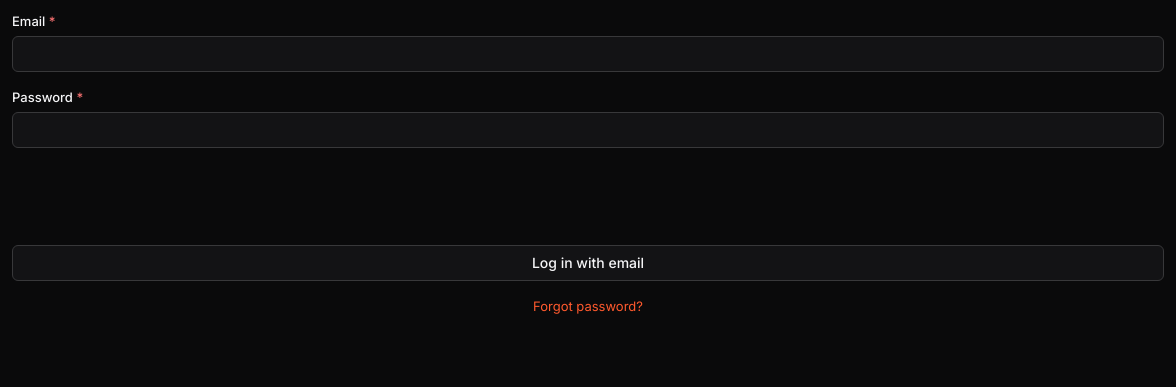
Scenario: LoginForm › shows the one generic error with the static Google hint
Type "a@b.co" into the field labelled "Email *" at (588, 54), box [12, 36, 1164, 72]
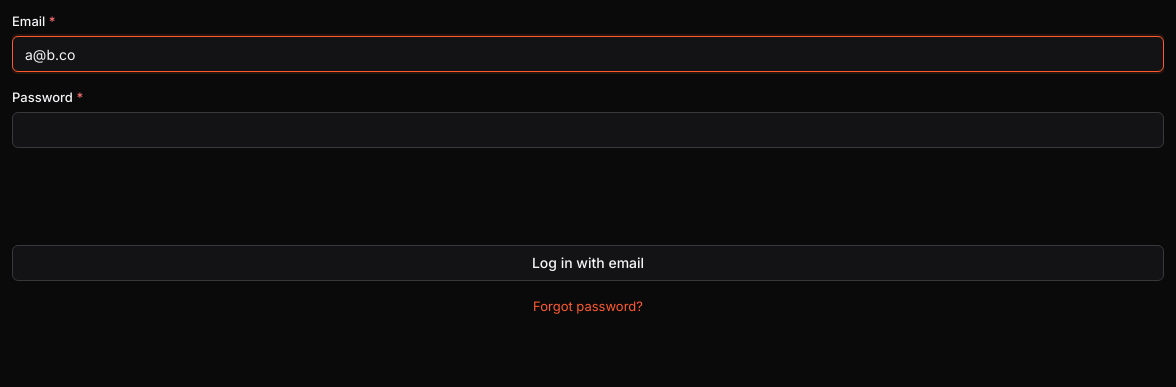
Type "wrong" into the password field labelled "Password *" at (588, 130), box [12, 112, 1164, 148]
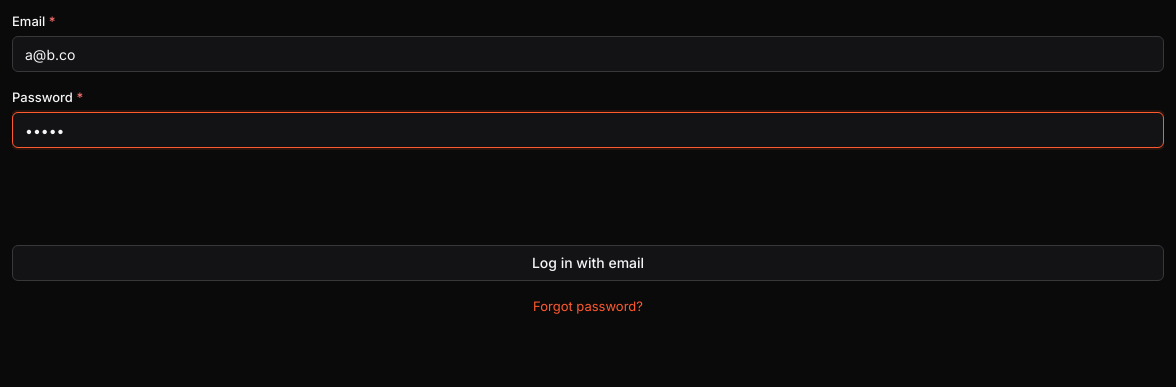
Click the button "Log in with email" at (588, 263), box [12, 245, 1164, 281]
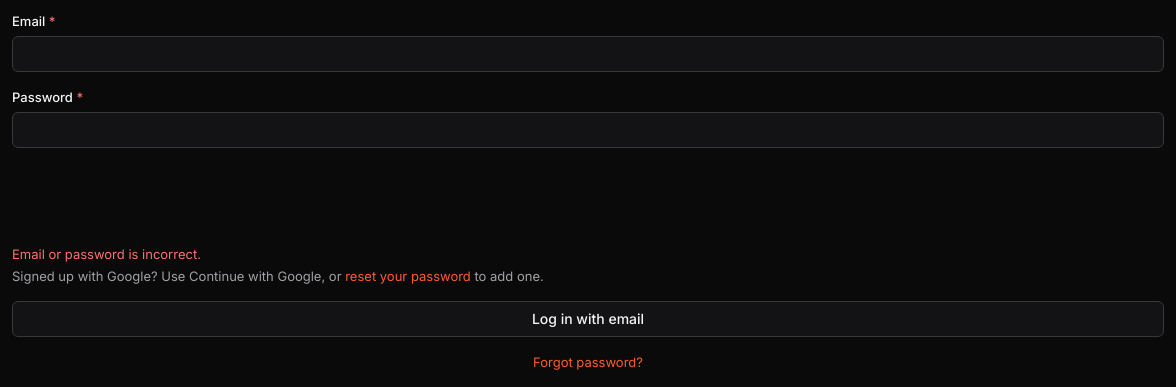
Check: the message shows "Email or password is incorrect.", box [12, 246, 201, 262]
Check: the message shows "Signed up with Google?", box [12, 268, 342, 284]
